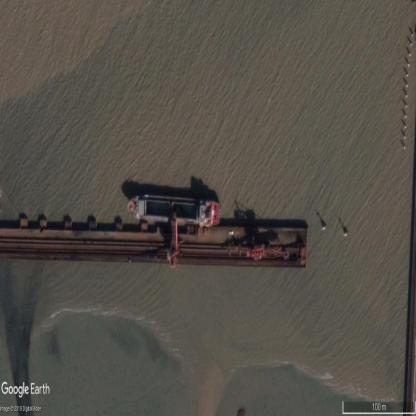ship: (126, 193, 221, 227)
